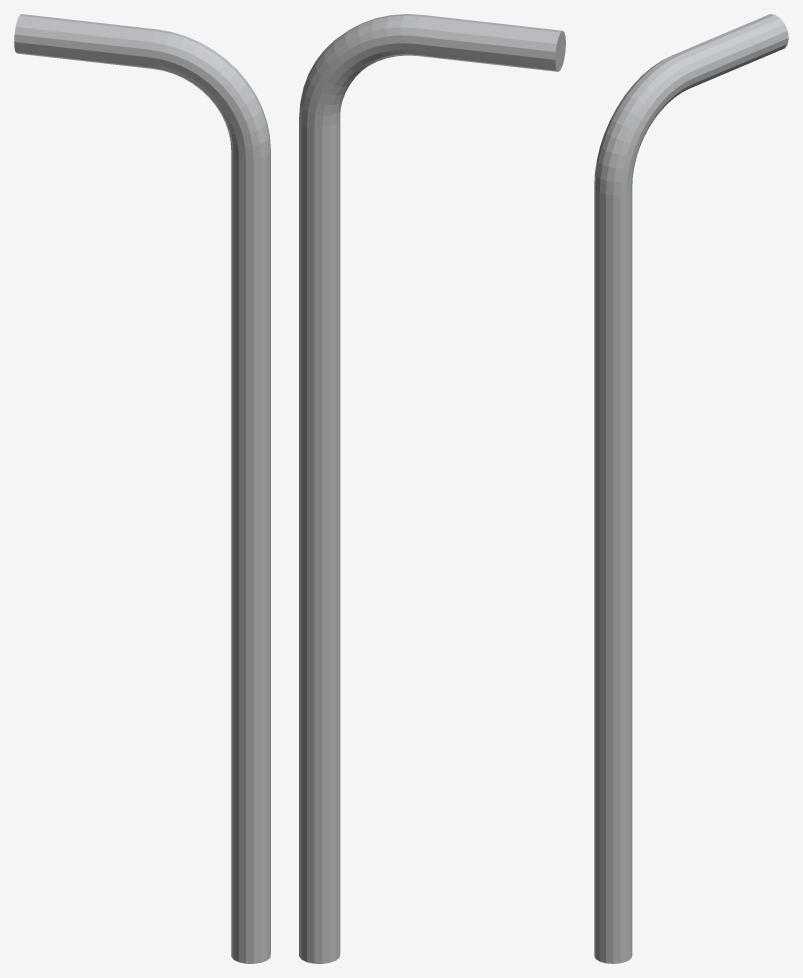
The model's file is 45d_moretop_-2.obj.
The picture shows the model from 3 angles, left to right: view 1: azimuth 30°, elevation 25°; view 2: azimuth 210°, elevation 25°; view 3: azimuth 270°, elevation 25°; orthographic projection. The views are drawn at different scales.
Visible parts, largest first — view 1: moretop_1.002; view 2: moretop_1.002; view 3: moretop_1.002.
Boxes of the visible parts, x1=… form: moretop_1.002: x1=14, y1=14, x2=270, y2=963; moretop_1.002: x1=299, y1=14, x2=565, y2=963; moretop_1.002: x1=594, y1=14, x2=788, y2=963.
Size of the model in its own units: 2.04 by 10.1 by 2.04.
Materials: 1 (1 with a texture image).
